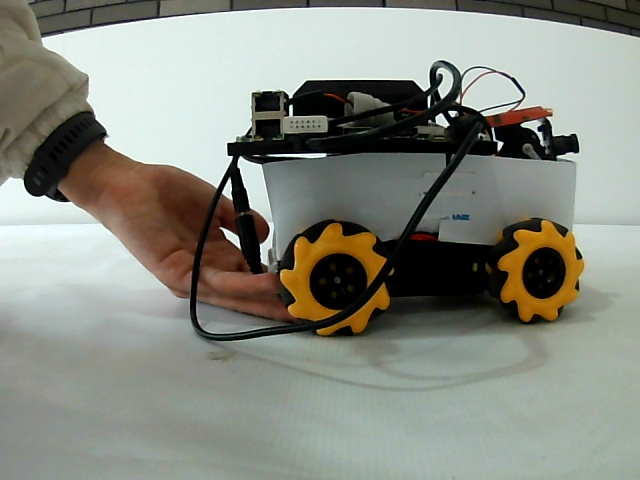car: (221, 78, 575, 322)
paper: (266, 161, 570, 221)
